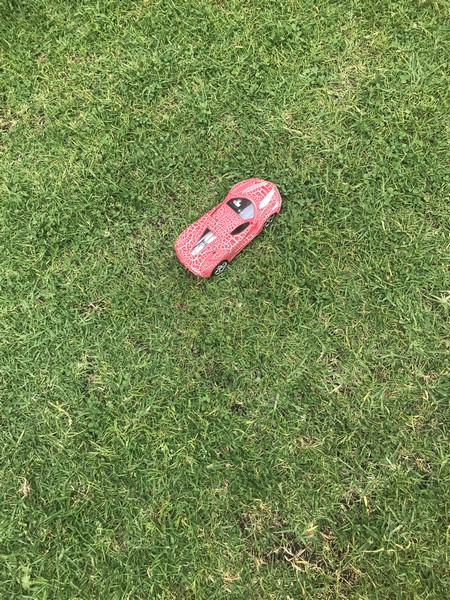RC: (172, 177, 286, 283)
